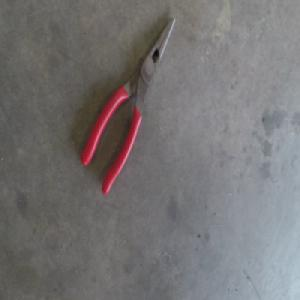Pliers: (76, 16, 173, 195)
